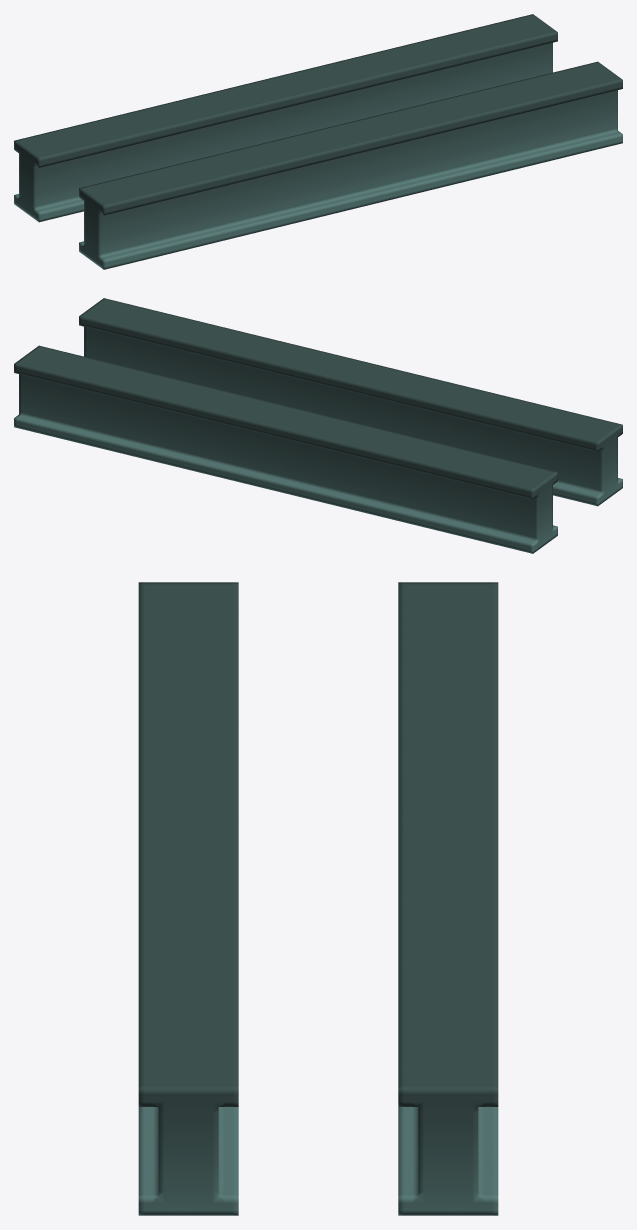
Rendered from SM_robo_rail.fbx.
The picture shows the model from 3 angles, top to bottom: view 1: azimuth 30°, elevation 25°; view 2: azimuth 150°, elevation 25°; view 3: azimuth 270°, elevation 25°; orthographic projection. The views are drawn at different scales.
Parts seen in each view (by area): view 1: SM_robo_rail; view 2: SM_robo_rail; view 3: SM_robo_rail.
Boxes of the visible parts, x1=… form: SM_robo_rail: x1=14, y1=14, x2=622, y2=269; SM_robo_rail: x1=14, y1=298, x2=622, y2=553; SM_robo_rail: x1=138, y1=582, x2=498, y2=1215.
Bounding box in the file's own units: 600 × 70 × 180.
